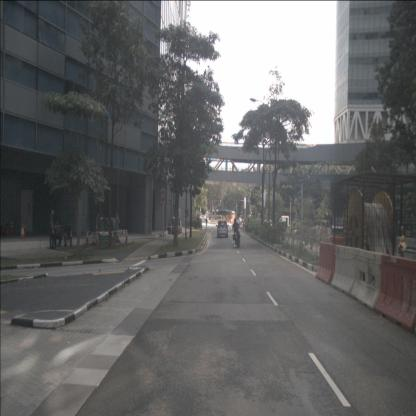barrier: (374, 253, 416, 335), (350, 246, 384, 312), (330, 245, 358, 297), (314, 242, 338, 286), (329, 236, 344, 265)
cone: (18, 223, 26, 241), (124, 228, 129, 246), (110, 229, 115, 247), (84, 231, 90, 246), (95, 232, 100, 248), (9, 219, 14, 235), (169, 225, 173, 236), (178, 226, 181, 235), (180, 226, 182, 235), (177, 226, 179, 235)
